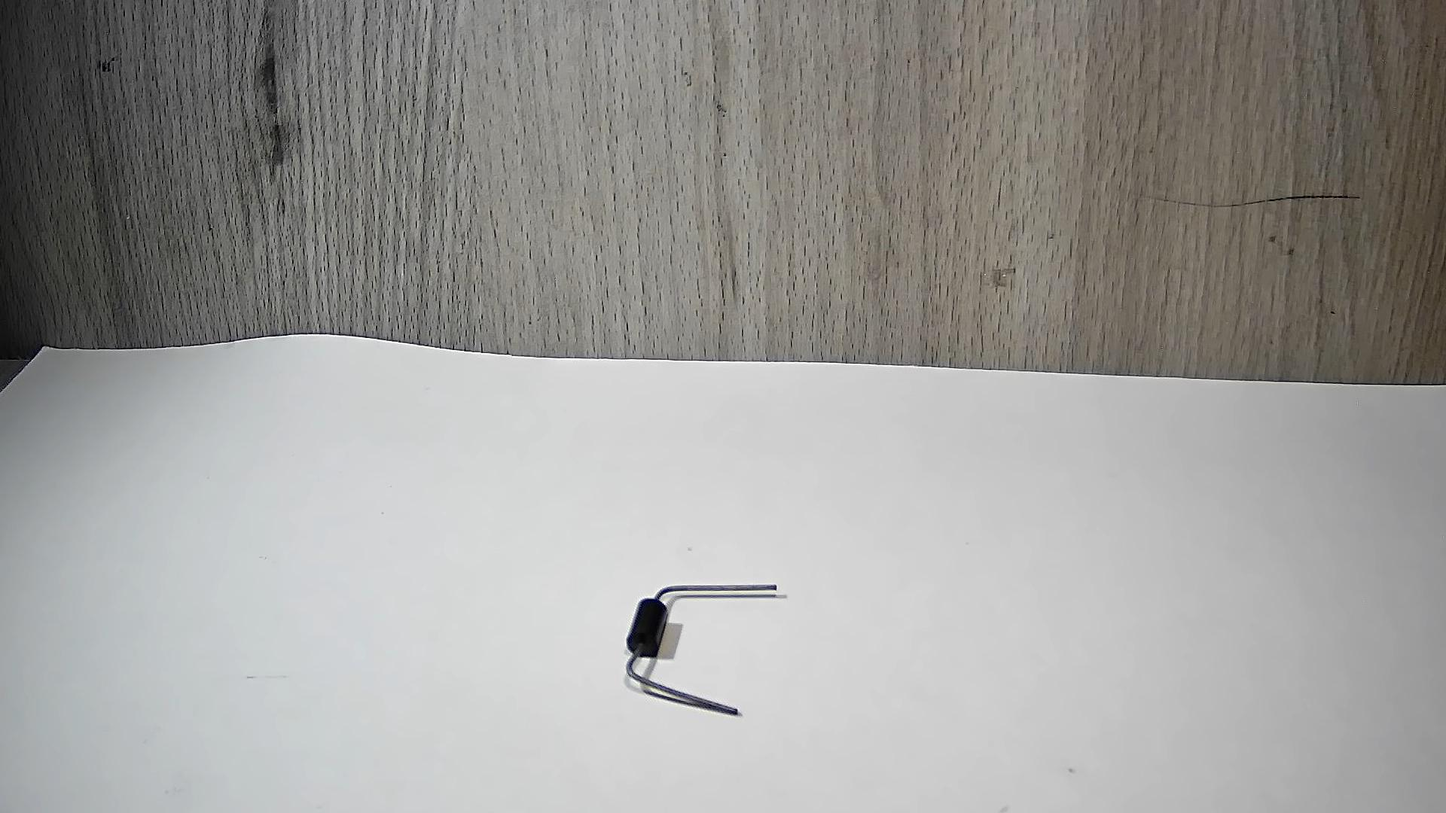Diodo: (600, 545, 799, 731)
